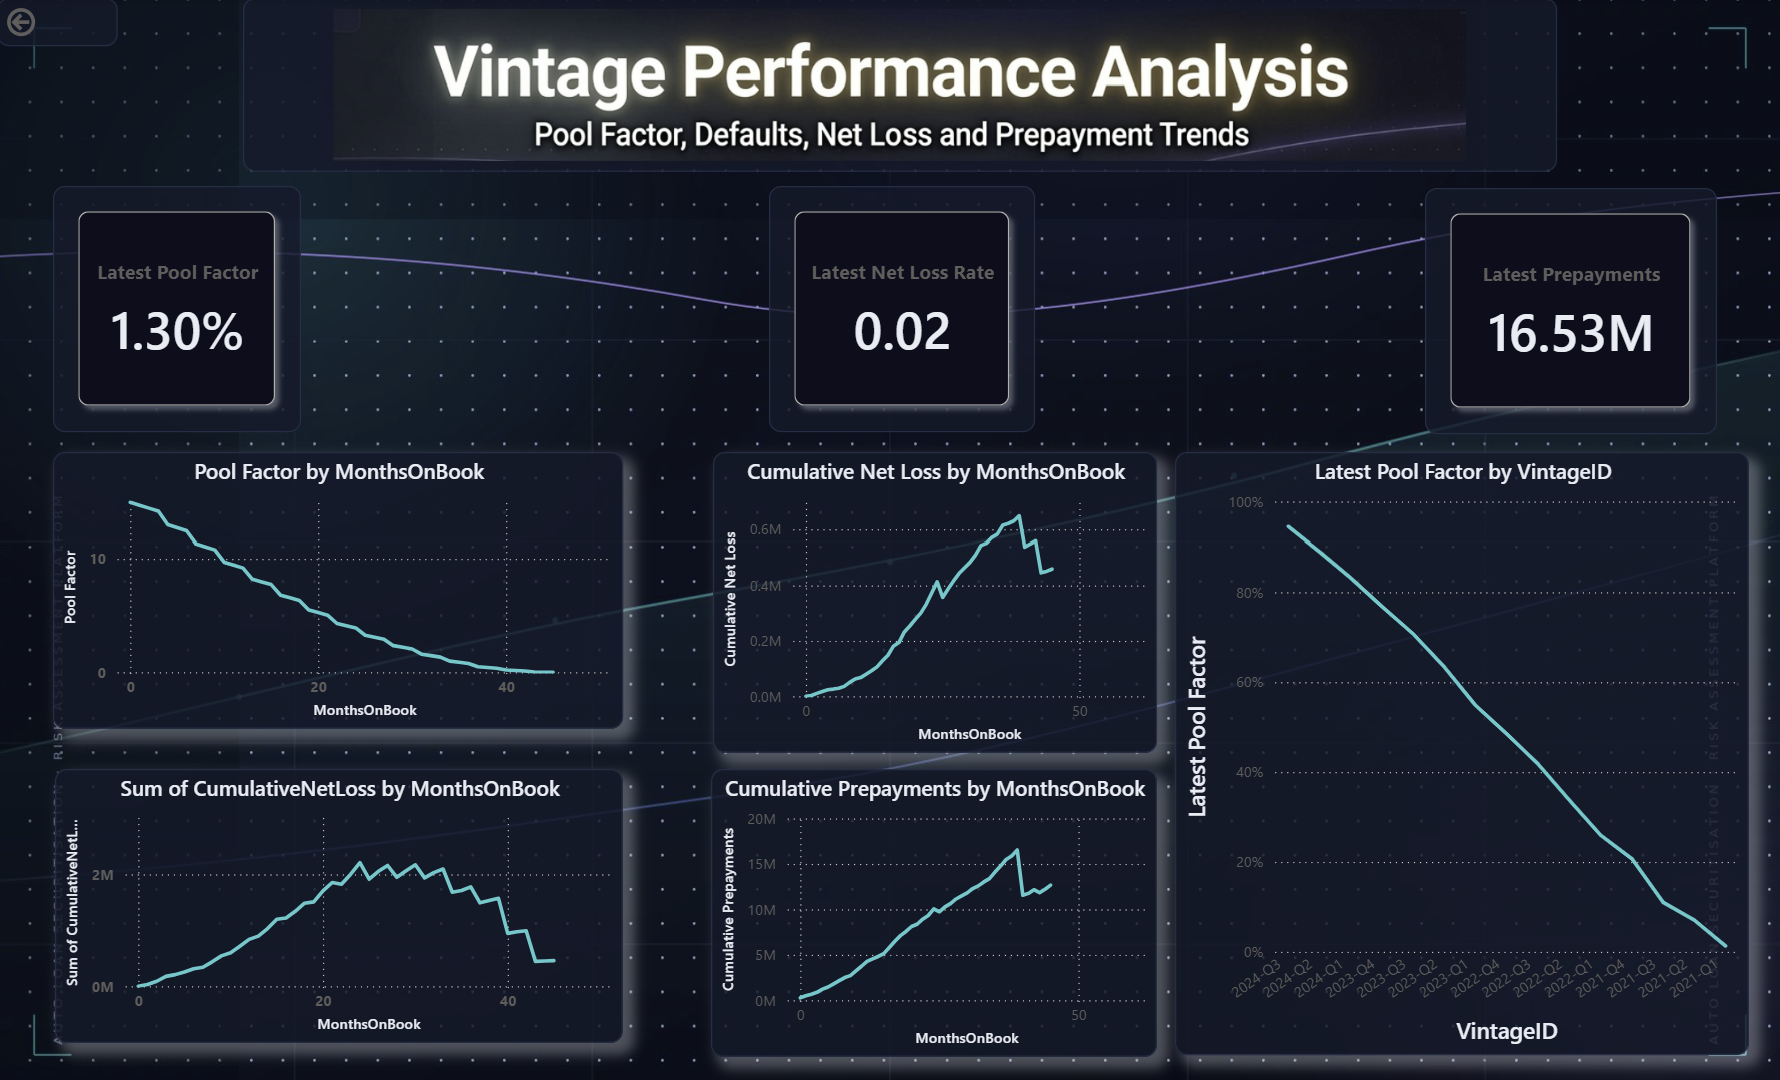

The page's visual inventory and layout, read from the dashboard file:
{"tool":"powerbi","page":{"name":"Page 5","canvas":[1480,900],"ordinal":4},"visuals":[{"type":"cardVisual","fields":{"Data":["static_pool_vintage_data.Latest Pool Factor"]},"box":[46.4,155.8,205.5,203.9],"z":1000},{"type":"cardVisual","fields":{"Data":["static_pool_vintage_data.Latest Net Loss Rate"]},"box":[639.8,155.8,220.4,203.9],"z":2000},{"type":"cardVisual","fields":{"Data":["static_pool_vintage_data.Latest Prepayments"]},"box":[1183.4,157.5,242,203.9],"z":3000},{"type":"lineChart","fields":{"Y":["Sum(static_pool_vintage_data.PoolFactor)"],"Category":["static_pool_vintage_data.MonthsOnBook"]},"box":[46.4,376.2,472.4,228.7],"z":4000},{"type":"lineChart","fields":{"Category":["static_pool_vintage_data.MonthsOnBook"],"Y":["Sum(static_pool_vintage_data.CumulativeNetLoss)"]},"box":[48.1,638.1,470.7,227.1],"z":5000},{"type":"lineChart","fields":{"Y":["static_pool_vintage_data.Cumulative Net Loss"],"Category":["static_pool_vintage_data.MonthsOnBook"]},"box":[593.4,376.2,368,248.6],"z":6000},{"type":"lineChart","fields":{"Y":["DateTable.Cumulative Prepayments"],"Category":["static_pool_vintage_data.MonthsOnBook"]},"box":[591.7,638.1,369.6,238.7],"z":7000},{"type":"lineChart","fields":{"Y":["static_pool_vintage_data.Latest Pool Factor"],"Category":["static_pool_vintage_data.VintageID"]},"box":[976.2,376.2,475.7,498.9],"z":8000},{"type":"image","box":[203.9,0,1089,144.2],"z":9000},{"type":"actionButton","box":[0,0,100,40],"z":10000}]}

Visuals, with their boxes in screenshot pixels (x1, y1, x2, y2), scaled from the page's 1480x900 canvas onto the 1780x1080 screenshot:
cardVisual - static_pool_vintage_data.Latest Pool Factor: 56, 187, 303, 432
cardVisual - static_pool_vintage_data.Latest Net Loss Rate: 769, 187, 1035, 432
cardVisual - static_pool_vintage_data.Latest Prepayments: 1423, 189, 1714, 434
lineChart - Sum(static_pool_vintage_data.PoolFactor) x static_pool_vintage_data.MonthsOnBook: 56, 451, 624, 726
lineChart - static_pool_vintage_data.MonthsOnBook x Sum(static_pool_vintage_data.CumulativeNetLoss): 58, 766, 624, 1038
lineChart - static_pool_vintage_data.Cumulative Net Loss x static_pool_vintage_data.MonthsOnBook: 714, 451, 1156, 750
lineChart - DateTable.Cumulative Prepayments x static_pool_vintage_data.MonthsOnBook: 712, 766, 1156, 1052
lineChart - static_pool_vintage_data.Latest Pool Factor x static_pool_vintage_data.VintageID: 1174, 451, 1746, 1050
image: 245, 0, 1555, 173
actionButton: 0, 0, 120, 48
